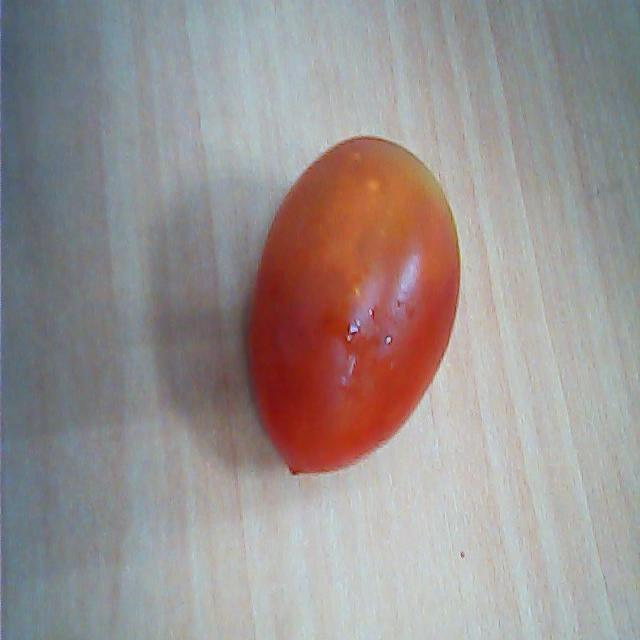verde: (247, 134, 461, 484)
